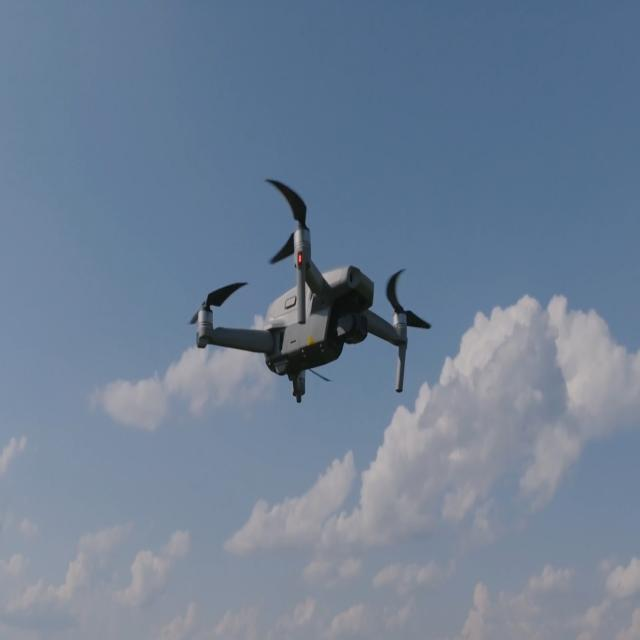Drone: (196, 215, 453, 403)
